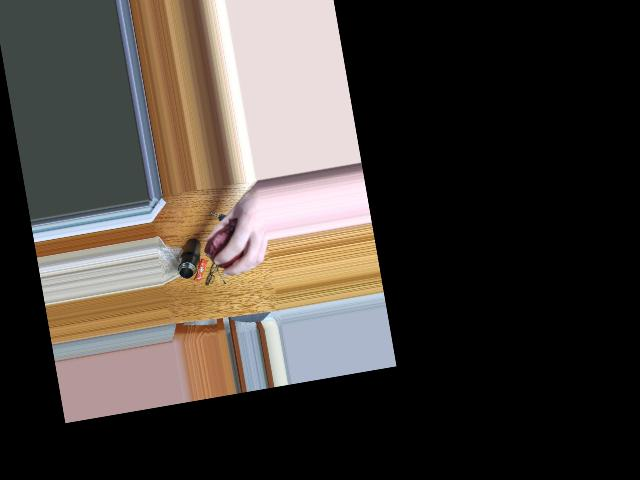onion: (205, 228, 245, 272)
